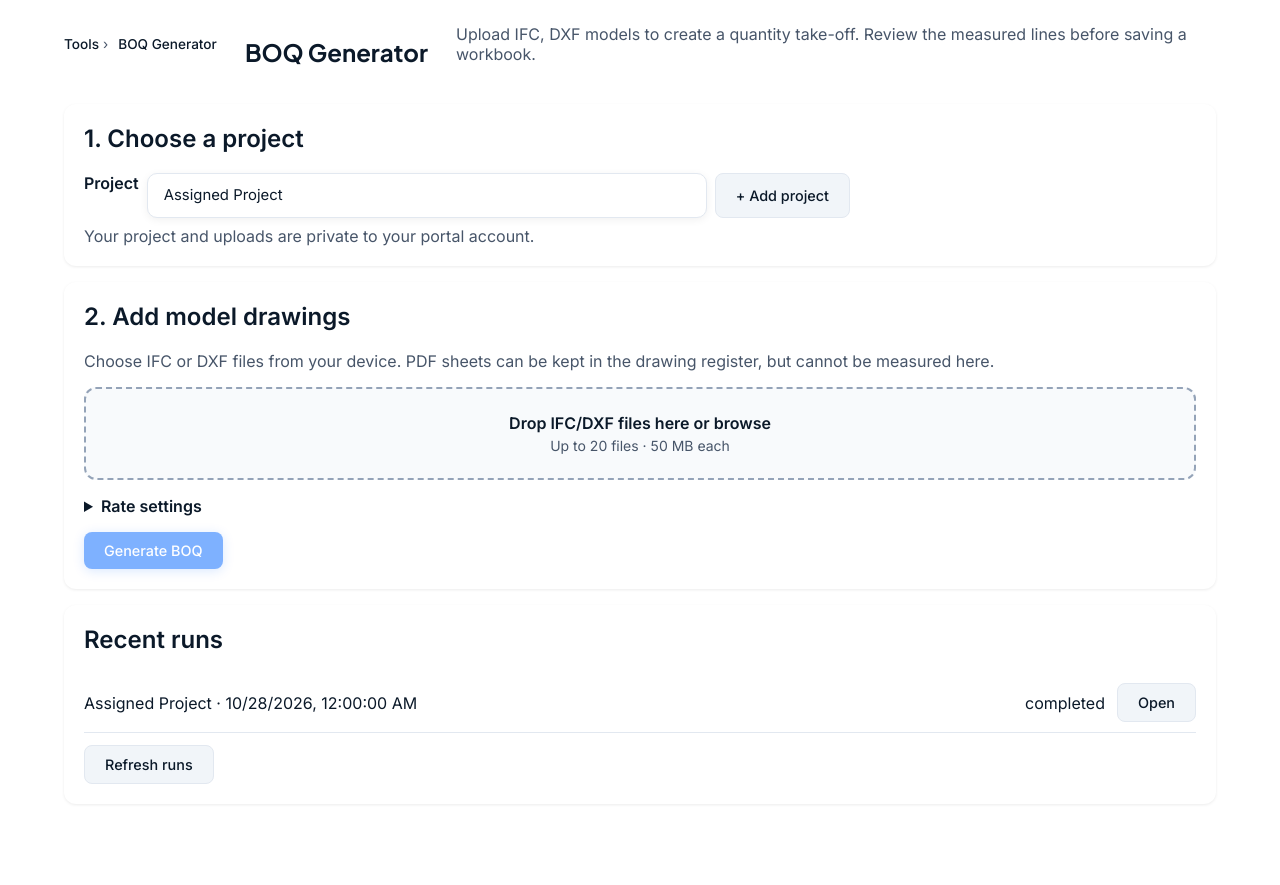
Test case: BOQ Generator user workflow › shows saved SAMPLE status when current service metadata is real
This screenshot has width=1280, height=885.
Click the button "Open".
click(1156, 703)  # box [1117, 683, 1196, 722]
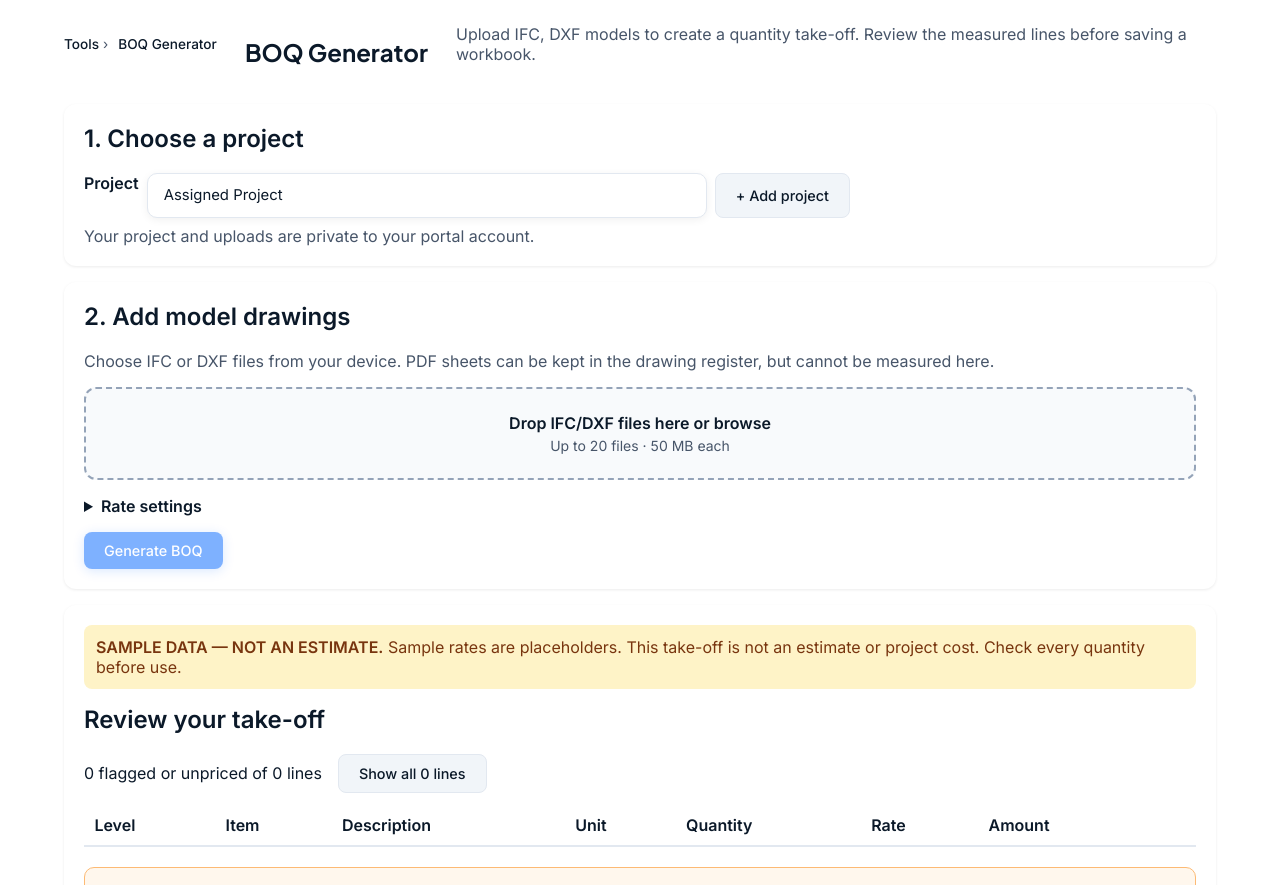
Expected: the heading "Review your take-off" is shown, [84, 705, 325, 734]
Expected: the message shows "SAMPLE DATA — NOT AN ESTIMATE", [96, 637, 384, 657]
